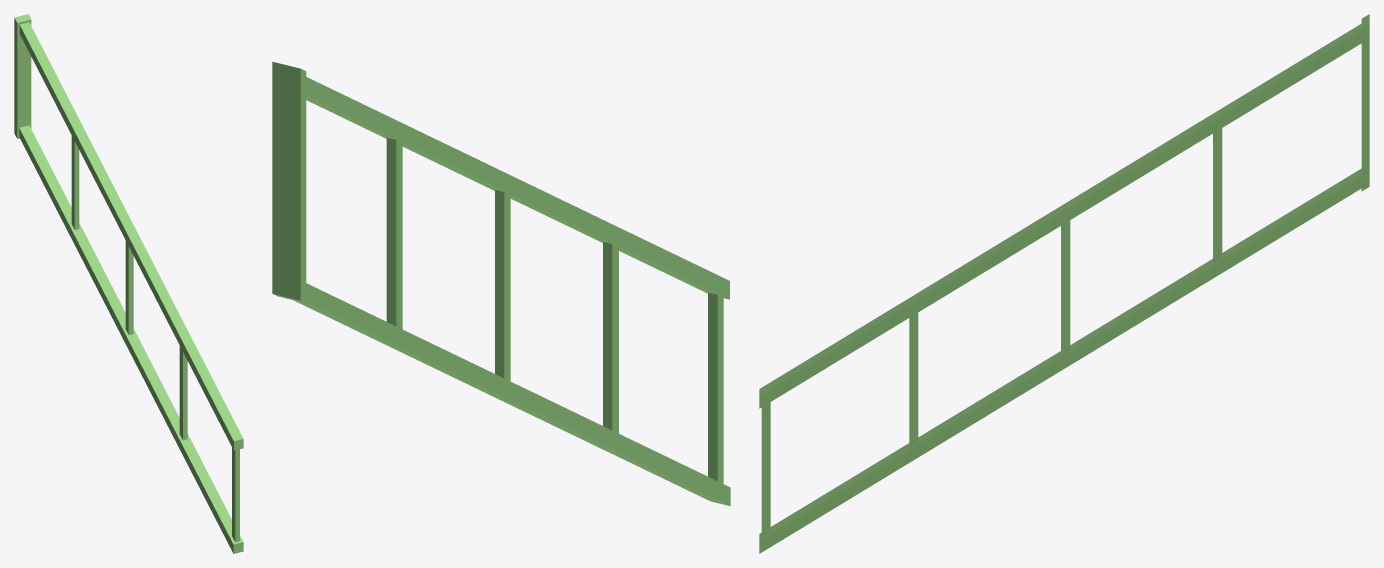
The model's file is Platform_Rail_Incline.fbx.
The picture shows the model from 3 angles, left to right: view 1: azimuth 30°, elevation 25°; view 2: azimuth 150°, elevation 25°; view 3: azimuth 270°, elevation 25°; orthographic projection. The views are drawn at different scales.
Visible parts, largest first — view 1: Platform_Rail_Incline; view 2: Platform_Rail_Incline; view 3: Platform_Rail_Incline.
Boxes of the visible parts, x1,y1,x2,y2 form: Platform_Rail_Incline: (14,14,243,553); Platform_Rail_Incline: (272,61,730,506); Platform_Rail_Incline: (759,14,1369,553).
Size of the model in its own units: 11.3 by 288 by 300.
